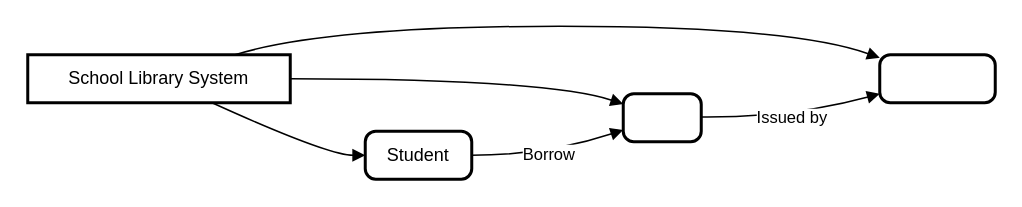
The diagram is 1022 pixels wide and 207 high, and some of its shapes have lost their labels. Here are the shapes that lost their labels. From the top down, the box of each, then its label:
(878, 52, 996, 104): Librarian
(621, 92, 702, 142): Book
